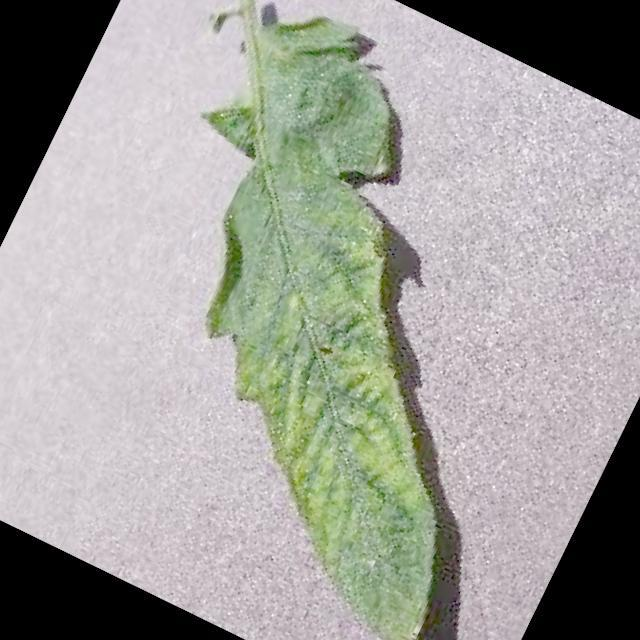Tomato mosaic virus leaf: (18, 0, 640, 640)
